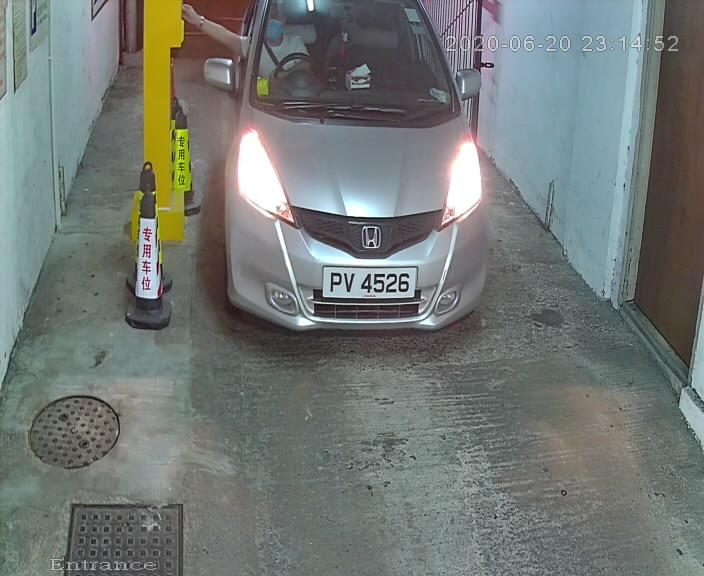privatecar: (198, 1, 511, 378)
